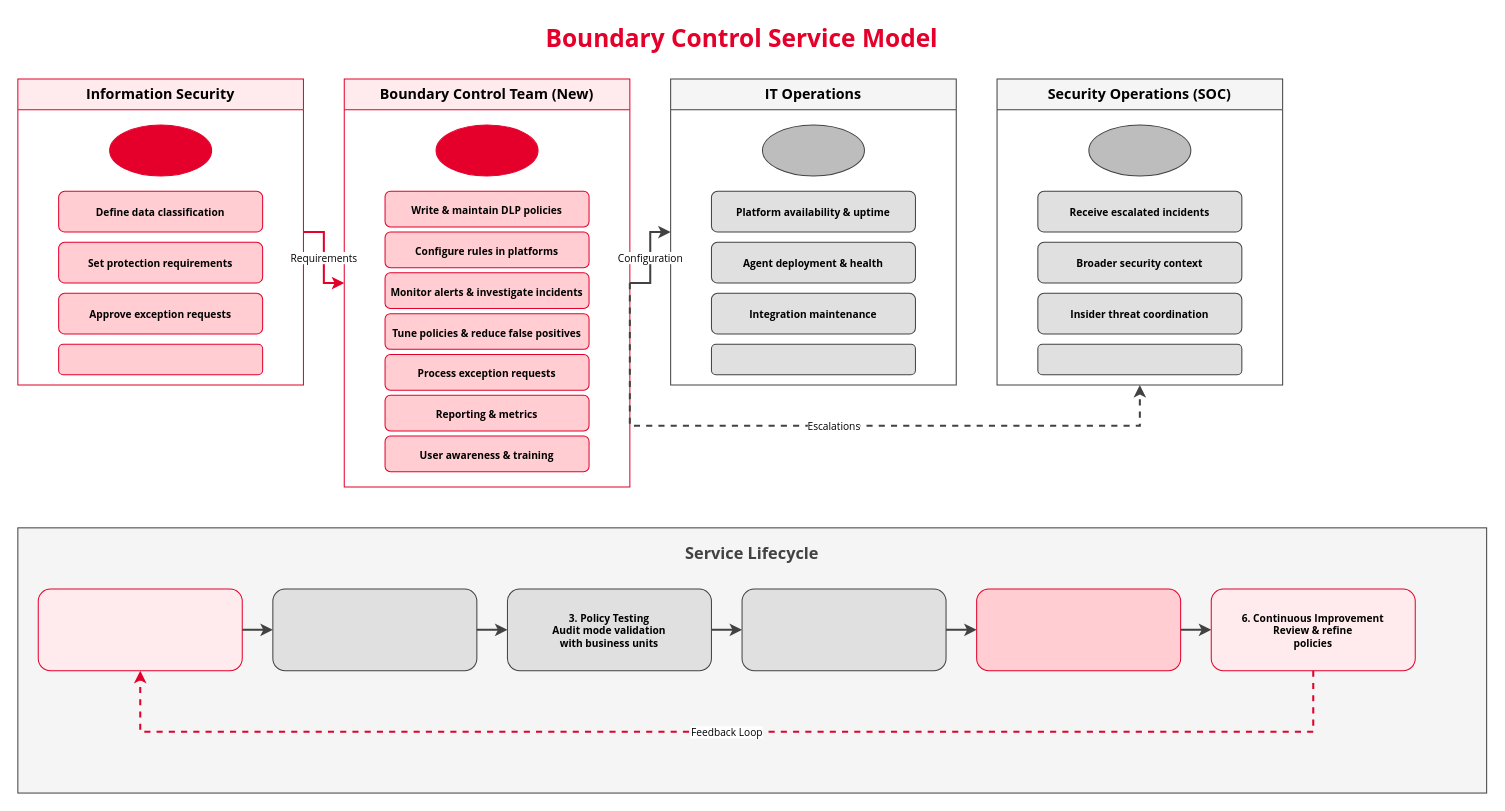
The diagram is 1505 pixels wide and 811 high, and some of its shapes have lost their labels. The centre of each missing label's shape, as x and y in pixels:
"1. Policy Request Business/InfoSec identifies data protection need" belongs at (x=139, y=629).
"2. Policy Design DLP Team designs detection rules" belongs at (x=374, y=629).
"4. Policy Deployment Phased rollout to production" belongs at (x=843, y=629).
"5. Monitoring Boundary Control monitors alerts & investigates" belongs at (x=1078, y=629).
"Cross-domain correlation" belongs at (x=1139, y=359).
"Escalation Support" belongs at (x=1139, y=150).
"Platform Owner" belongs at (x=812, y=150).
"Platform updates" belongs at (x=812, y=359).
"Policy Owner" belongs at (x=160, y=150).
"Risk assessment & governance" belongs at (x=160, y=359).
"Service Owner" belongs at (x=486, y=150).
